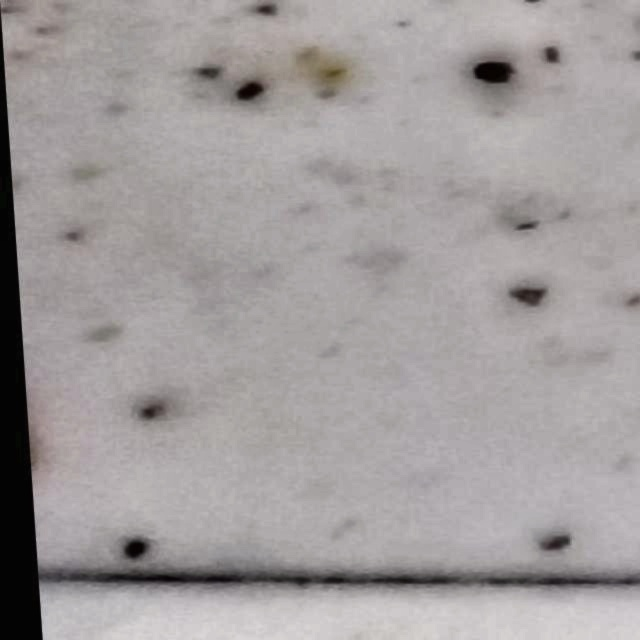varroa: (471, 59, 517, 88), (110, 544, 145, 566)
